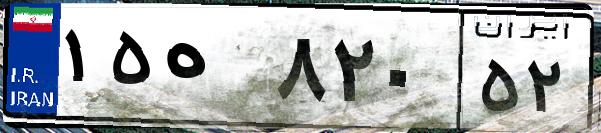0: (385, 28, 445, 110)
1: (57, 26, 110, 100)
2: (330, 28, 385, 110), (525, 38, 570, 115)
5: (475, 38, 525, 113), (110, 28, 158, 98)
8: (270, 28, 330, 110)
ه: (158, 20, 270, 120)
